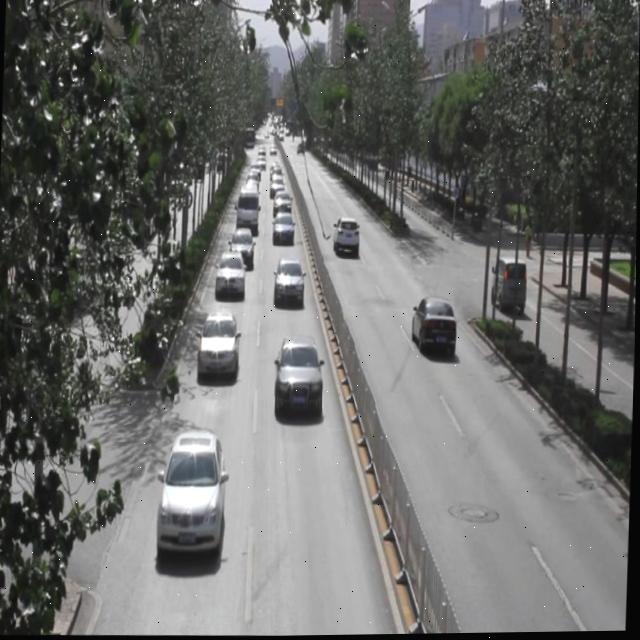car: (158, 431, 228, 554), (276, 336, 323, 418), (411, 297, 457, 359), (199, 310, 240, 379), (272, 258, 304, 308), (215, 249, 245, 301), (333, 218, 359, 260), (229, 228, 254, 271), (272, 212, 295, 245)
truck: (489, 256, 526, 316), (237, 186, 259, 232)
